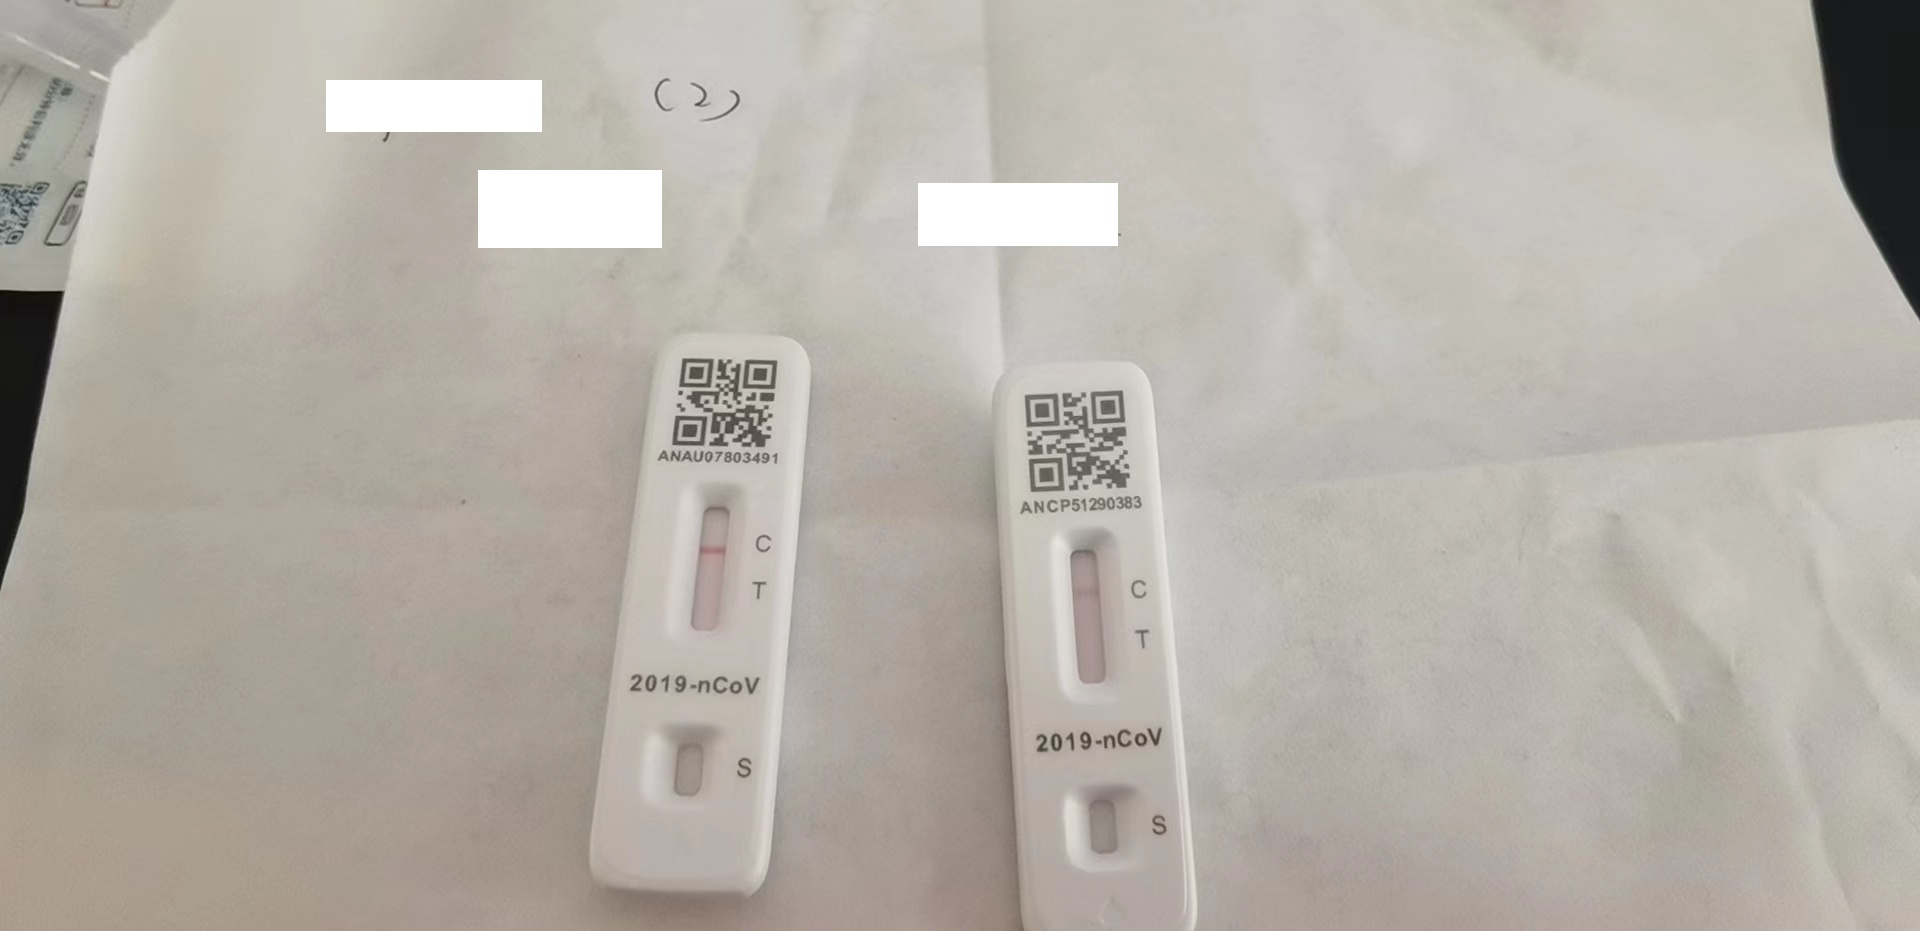negative: (1058, 524, 1122, 695), (677, 488, 741, 637)
